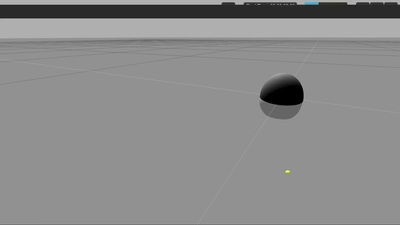mira_robot: (259, 74, 304, 120)
